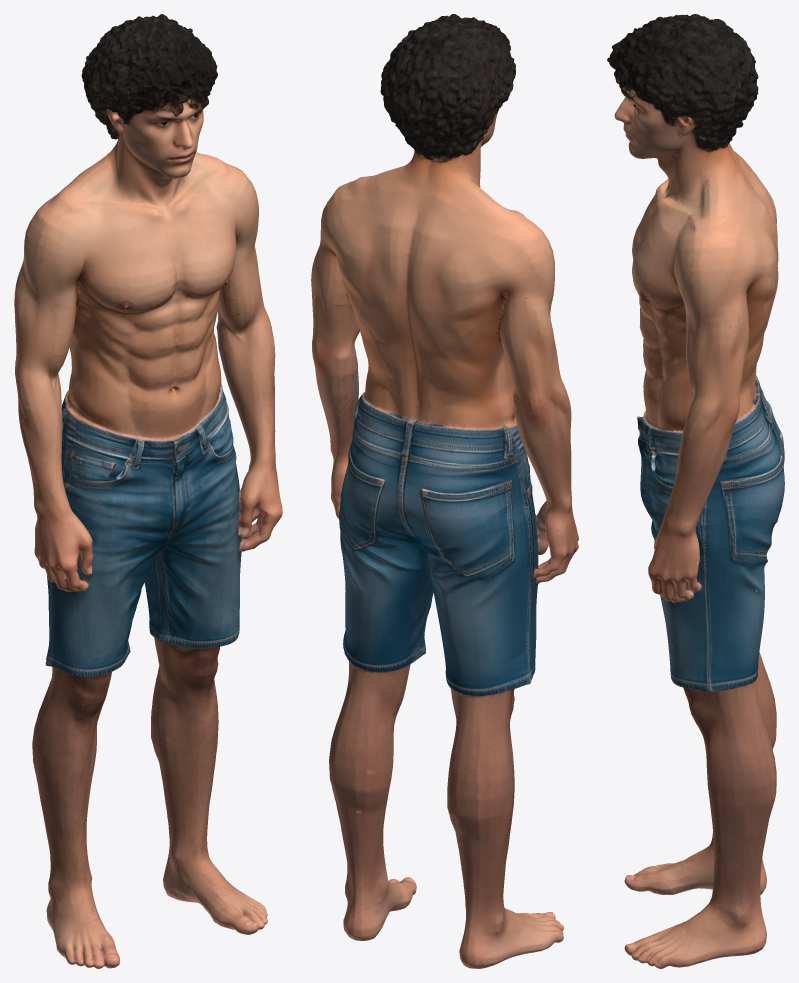
The model's file is male-avatar.optimized.glb.
3 views of the same model, side by side, from view 1: azimuth 30°, elevation 25°; view 2: azimuth 150°, elevation 25°; view 3: azimuth 270°, elevation 25° (orthographic).
Parts seen in each view (by area): view 1: Mesh_0; view 2: Mesh_0; view 3: Mesh_0.
Boxes of the visible parts, x1=… form: Mesh_0: x1=14, y1=14, x2=282, y2=968; Mesh_0: x1=311, y1=14, x2=578, y2=968; Mesh_0: x1=607, y1=14, x2=784, y2=968.
Size of the model in its own units: 0.5495 by 1.9 by 0.3376.
Materials: 1 (1 with a texture image).
